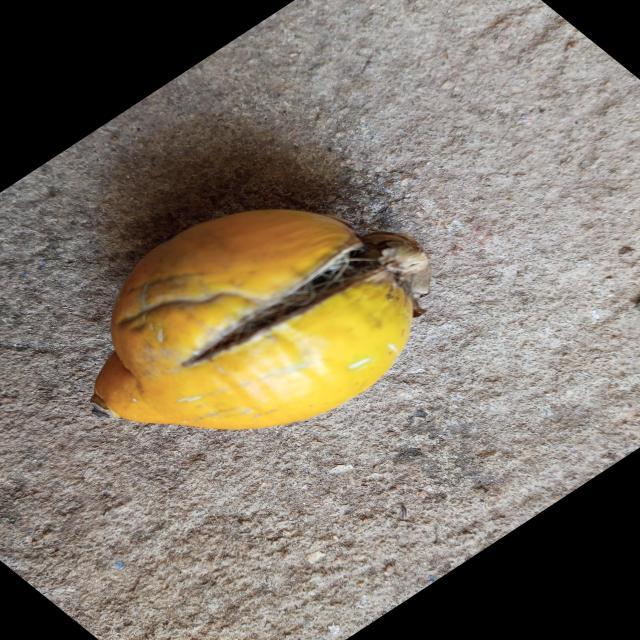damaged: (91, 210, 429, 434)
